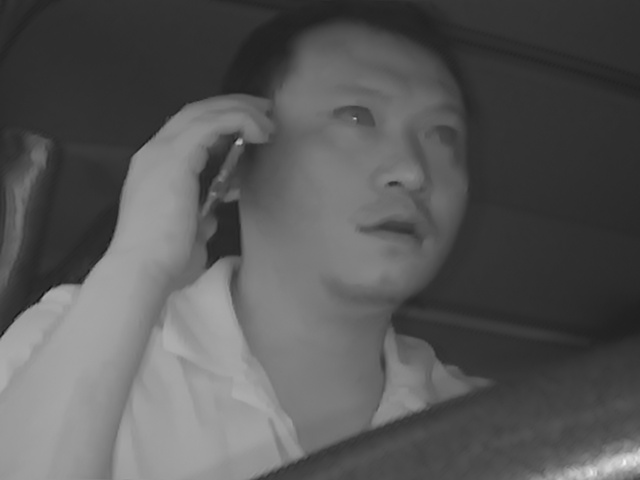hand: (113, 95, 252, 273)
